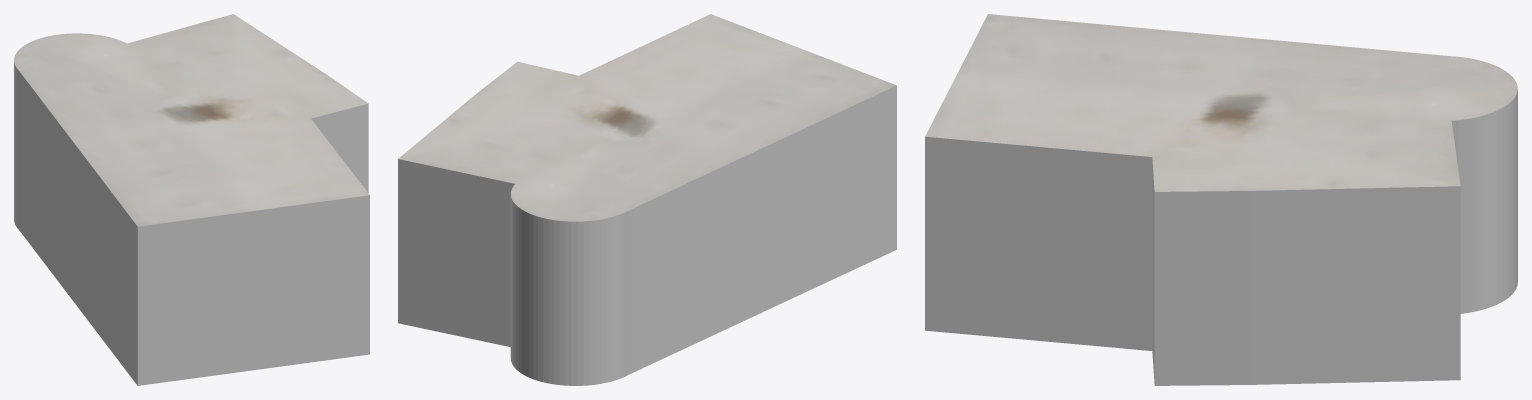
File: DEBW_0010007Tx9X.gltf
3 renders of one model, left to right at view 1: azimuth 30°, elevation 25°; view 2: azimuth 150°, elevation 25°; view 3: azimuth 270°, elevation 25°, orthographic. The views are drawn at different scales.
Parts seen in each view (by area): view 1: Z_UP; view 2: Z_UP; view 3: Z_UP.
Part boxes in pixels (x1,y1,x2,y2): Z_UP: (14, 14, 369, 385); Z_UP: (398, 14, 896, 385); Z_UP: (925, 14, 1517, 385).
Size of the model in its own units: 16.35 by 8.31 by 23.01.
2 materials, 1 textured.
